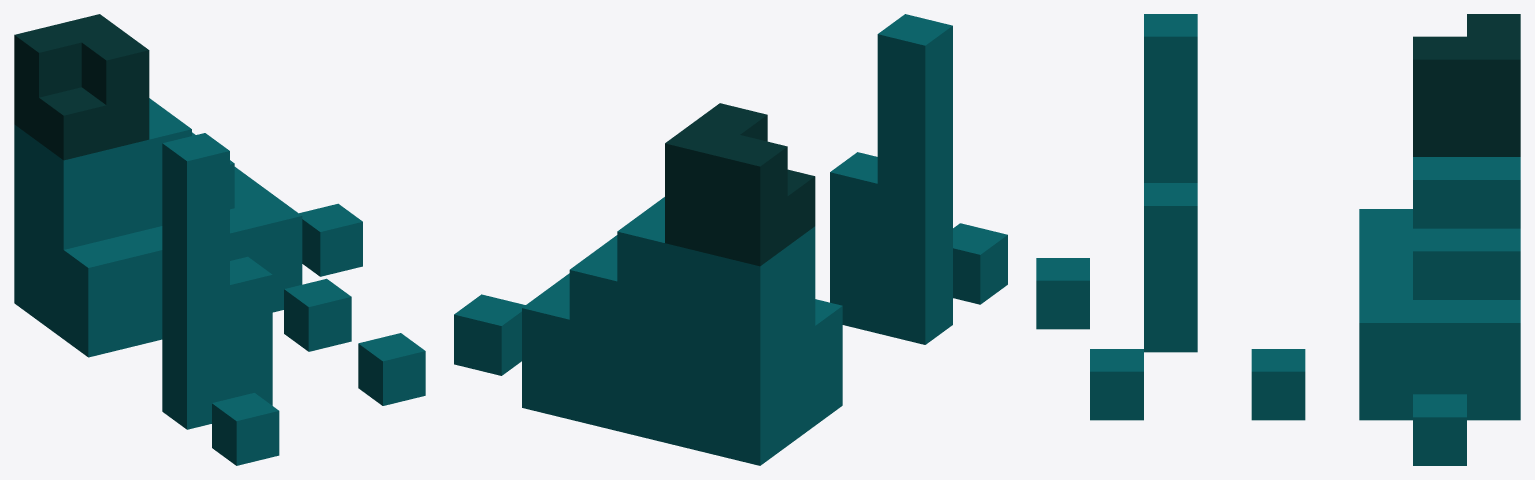
Rendered from rock4.obj.
3 views of the same model, side by side, from view 1: azimuth 30°, elevation 25°; view 2: azimuth 150°, elevation 25°; view 3: azimuth 270°, elevation 25° (orthographic). The views are drawn at different scales.
Bounding box in the file's own units: 0.7 × 0.6 × 0.9.
1 material, 1 textured.
